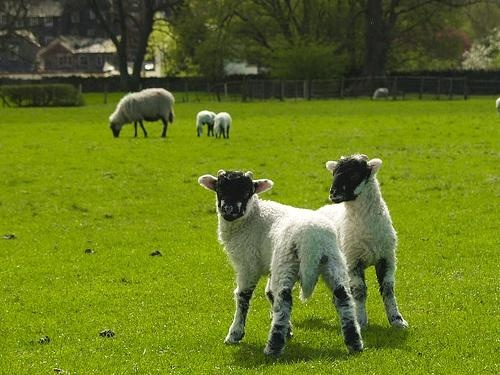sheep: (196, 170, 364, 356), (319, 155, 409, 330), (107, 85, 178, 141), (214, 111, 233, 141), (196, 109, 216, 135)
